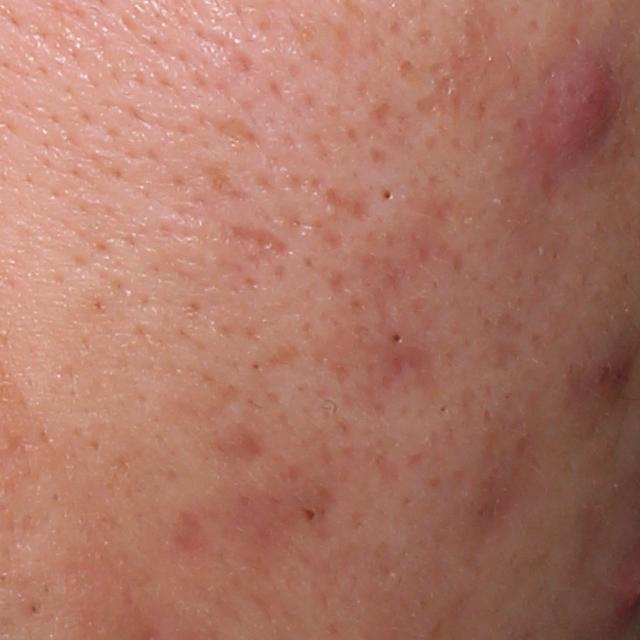atrophic_scar: (328, 188, 468, 313), (459, 406, 524, 558), (198, 416, 272, 458), (224, 222, 293, 266), (195, 111, 267, 148)
comedo: (378, 184, 398, 204), (301, 507, 320, 526), (387, 327, 403, 346)
papule: (535, 55, 627, 150)
